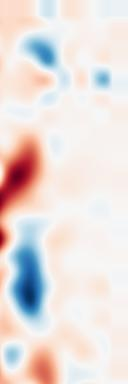filament: (0, 129, 53, 219)
